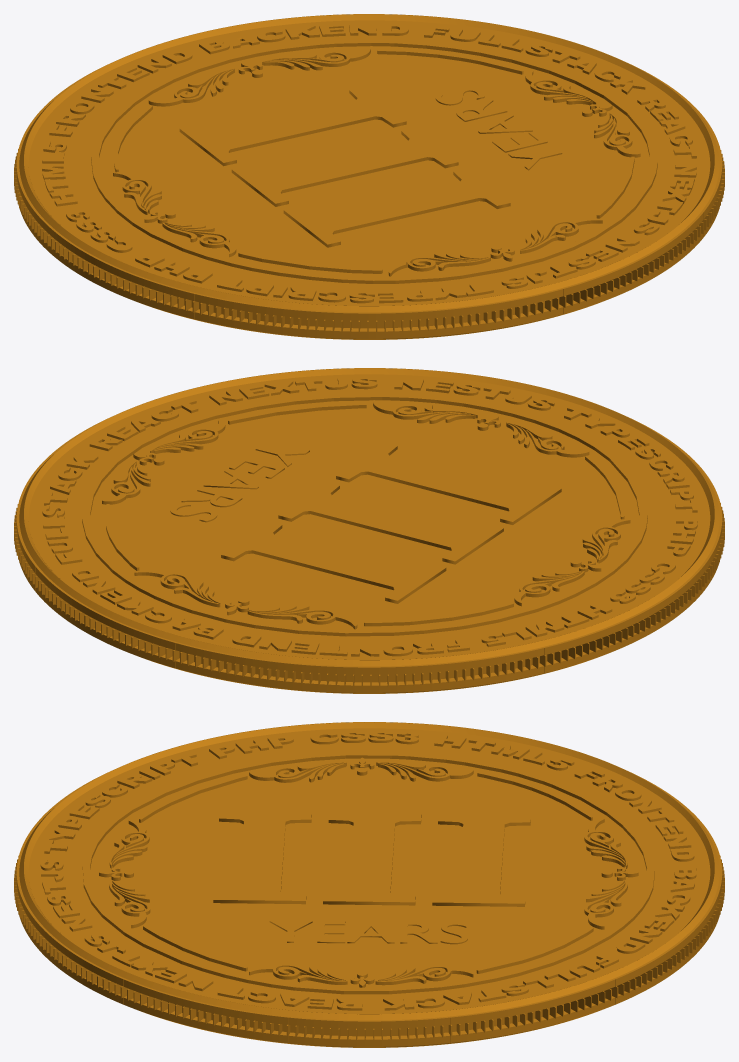
The model's file is two.glb.
The picture shows the model from 3 angles, top to bottom: view 1: azimuth 30°, elevation 25°; view 2: azimuth 150°, elevation 25°; view 3: azimuth 270°, elevation 25°; orthographic projection.
Parts seen in each view (by area): view 1: Окружность, Text.001; view 2: Окружность, Text.001; view 3: Окружность, Text.001.
Part boxes in pixels (x1,y1,x2,y2): Окружность: [14, 14, 724, 339]; Text.001: [91, 39, 657, 283]; Окружность: [14, 368, 724, 693]; Text.001: [82, 393, 647, 636]; Окружность: [14, 722, 724, 1047]; Text.001: [82, 751, 654, 994].
Size of the model in its own units: 2.03 by 0.1244 by 2.03.
